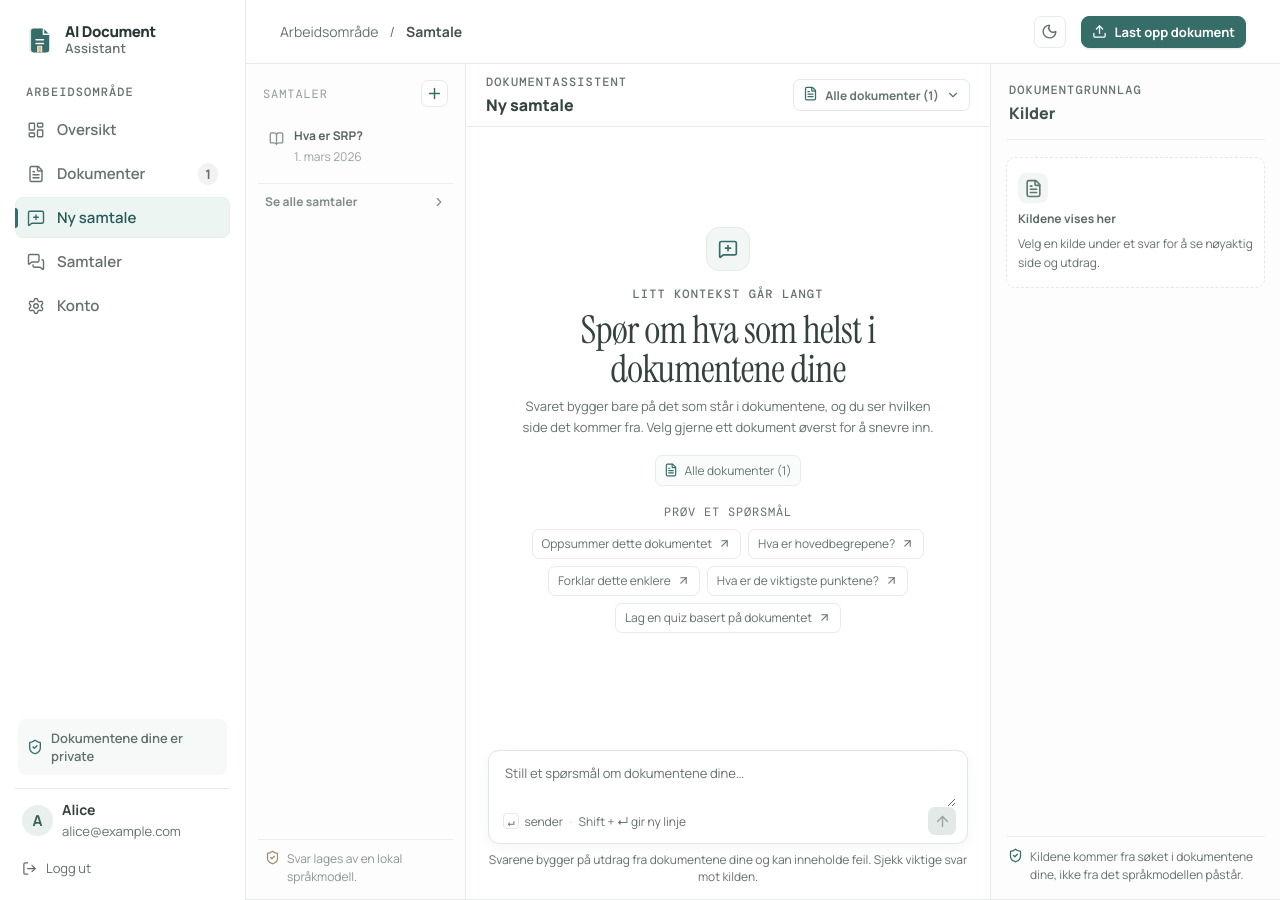
viewing a conversation › offers suggested prompts that fill the question box
Click the button "Hva er hovedbegrepene?" at coordinates (836, 544), box [748, 529, 924, 559]
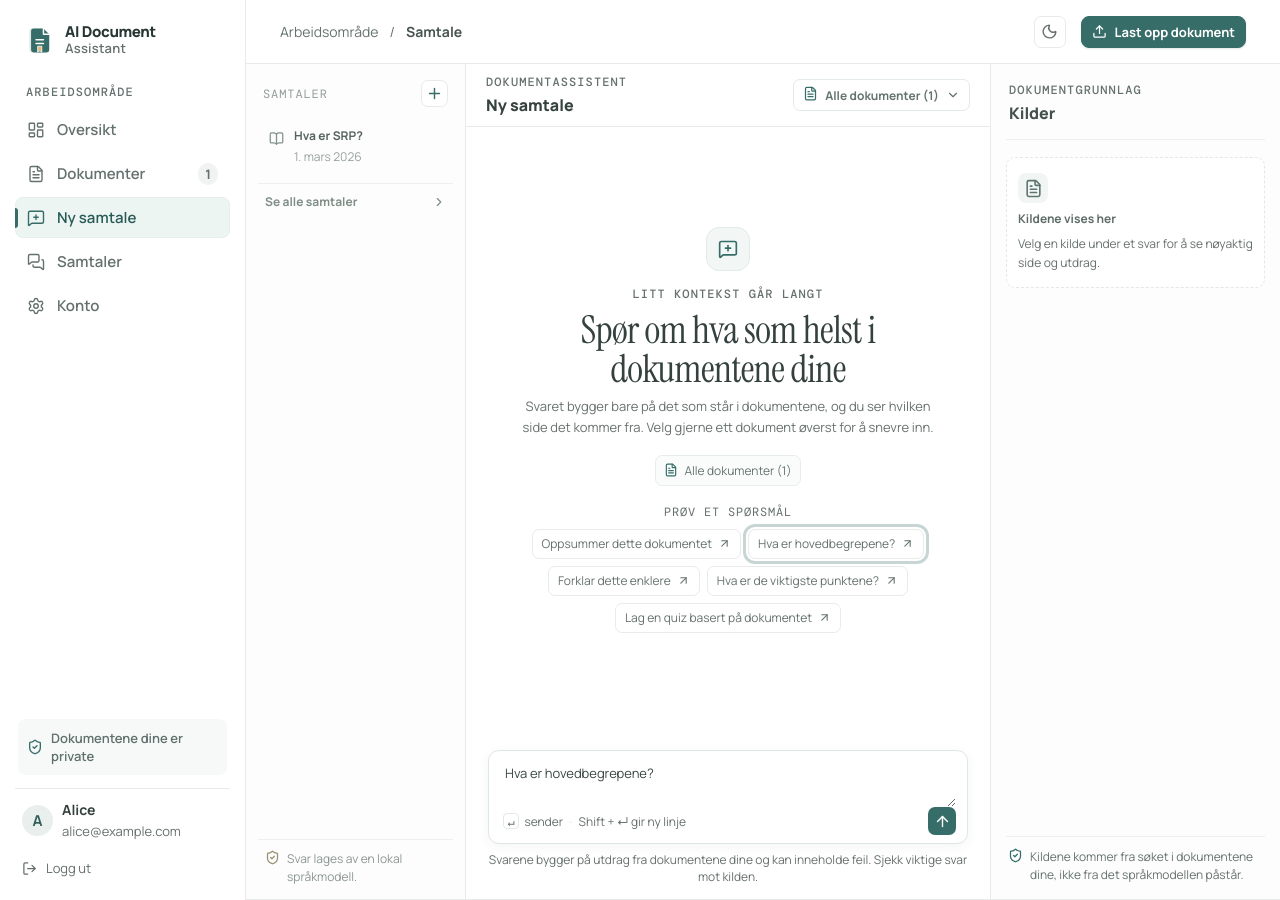
Expected: the text box named "spørsmål" holds "Hva er hovedbegrepene?", [503, 761, 956, 807]
